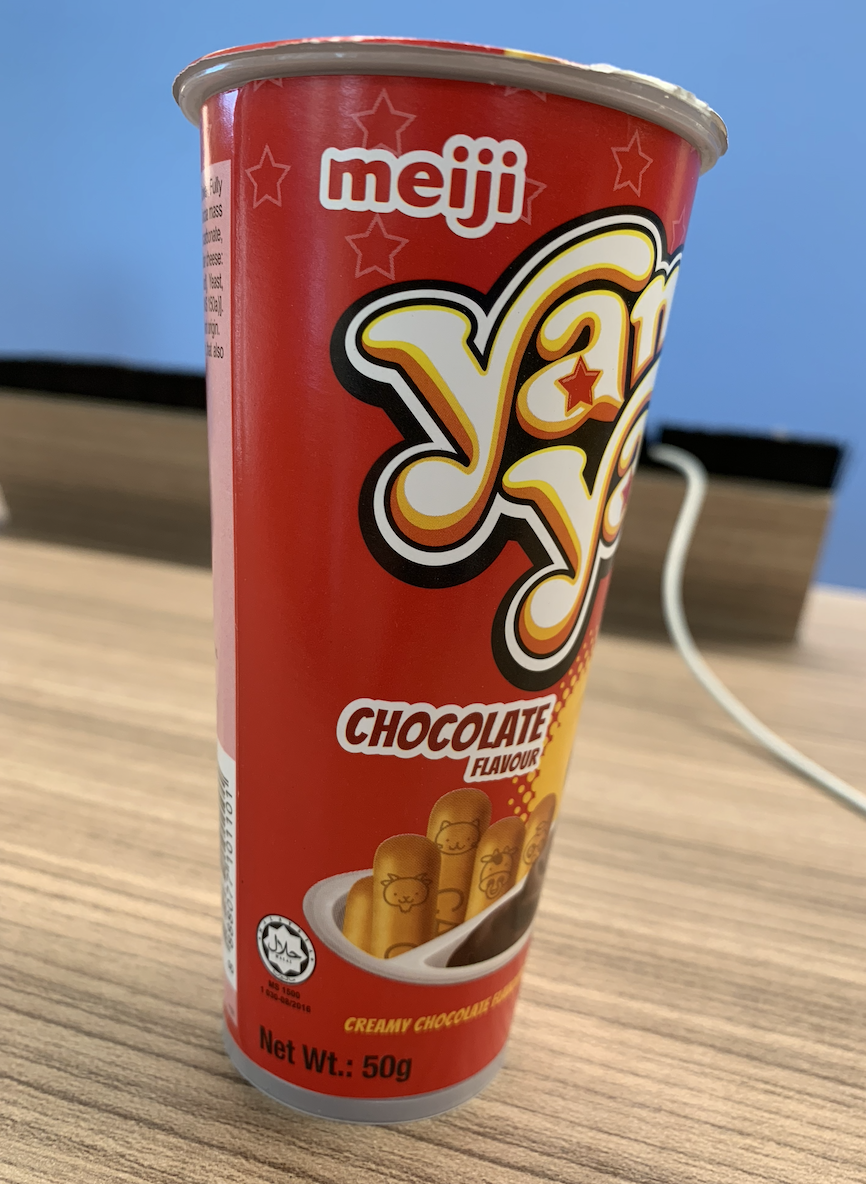cookies_50g: (246, 112, 558, 1088)
